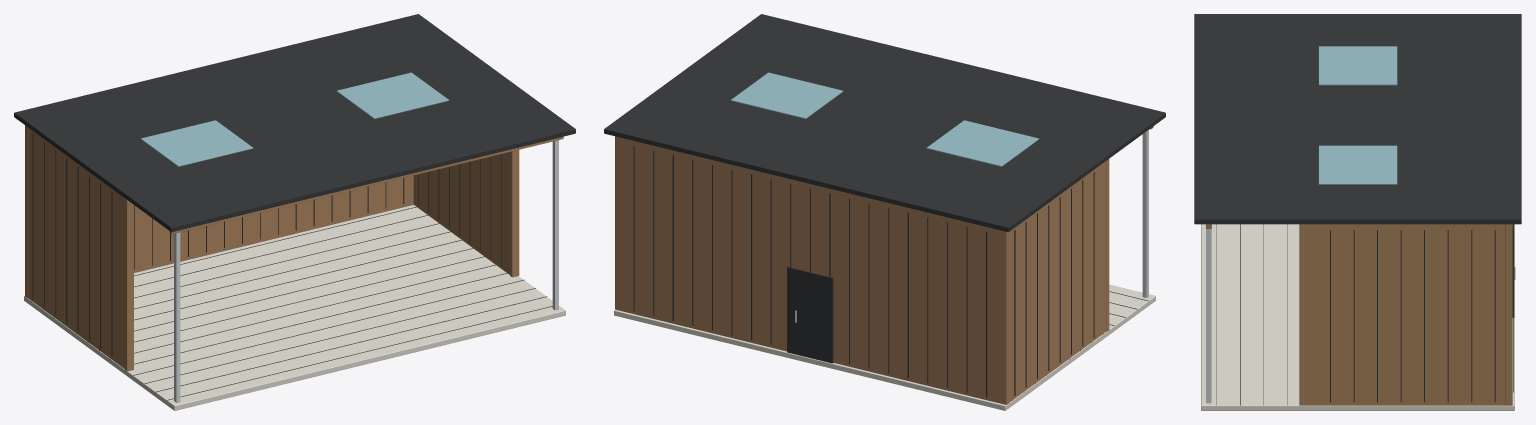
Rendered from barbershop-and-hair-salon-salon-building-a4a8fe2c__29682.glb.
3 views of the same model, side by side, from view 1: azimuth 30°, elevation 25°; view 2: azimuth 150°, elevation 25°; view 3: azimuth 270°, elevation 25° (orthographic). The views are drawn at different scales.
Parts seen in each view (by area): view 1: salon-building; view 2: salon-building; view 3: salon-building.
Part boxes in pixels (box(x1,y1,x2,y2)): salon-building: box(14, 14, 575, 410); salon-building: box(604, 14, 1165, 410); salon-building: box(1194, 14, 1521, 410).
Bounding box in the file's own units: 12.4 × 5.53 × 8.35.
